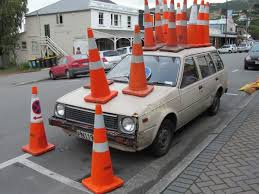cones: (80, 107, 124, 194), (78, 28, 116, 103), (20, 85, 55, 158), (123, 25, 152, 99), (159, 1, 185, 52), (138, 1, 161, 51), (184, 1, 205, 51)
